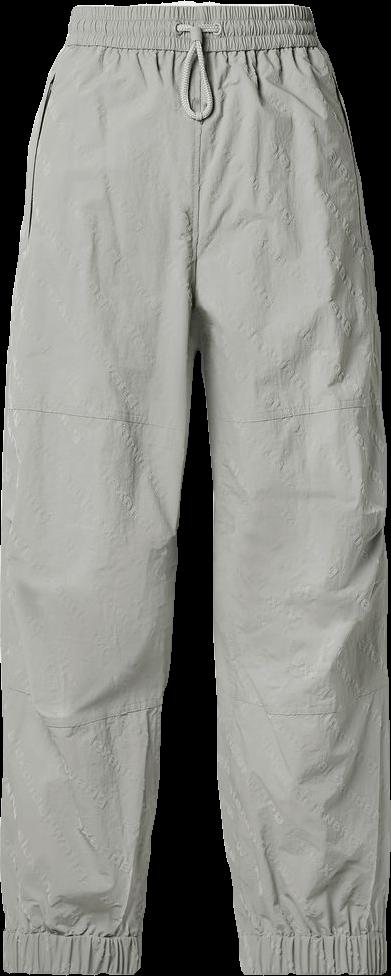Hemline: (2, 962, 140, 975), (240, 964, 390, 975)
Pantleg: (0, 0, 199, 974), (192, 0, 390, 975)
Waistline: (63, 36, 324, 59), (74, 0, 301, 14), (235, 927, 387, 944), (2, 923, 141, 940)
